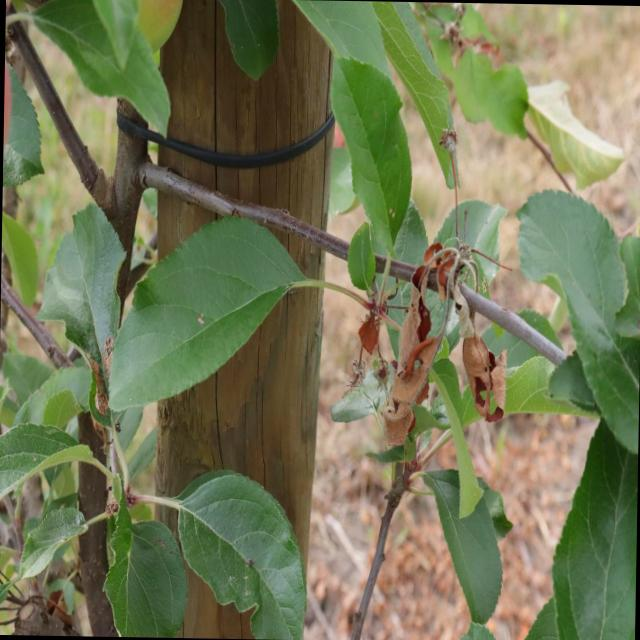-FireBlight-: (382, 231, 513, 440)
